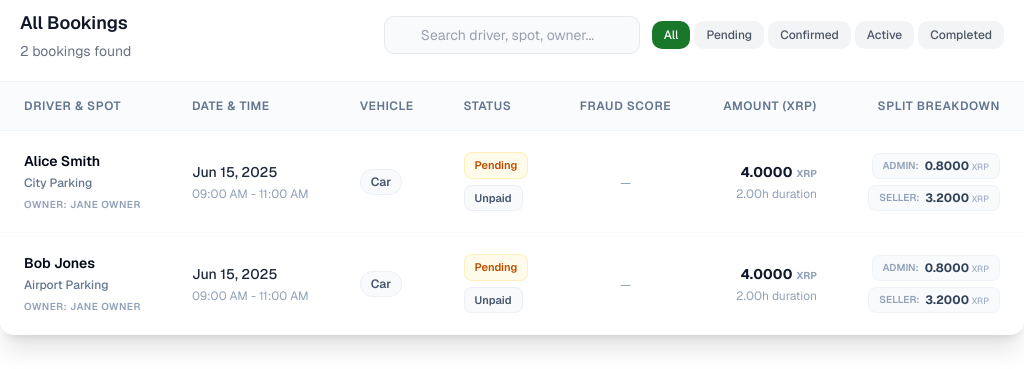
Test: BookingTable Component › Search Functionality › search filters by driver name
The width and height of the screenshot is (1024, 369).
Expected: the text "Alice Smith" is shown, [24,152,100,170]
Type "Alice" into the field with placeholder "Search driver, spot, owner...".
click(512, 35); type("Alice")  # box [384,16,640,54]
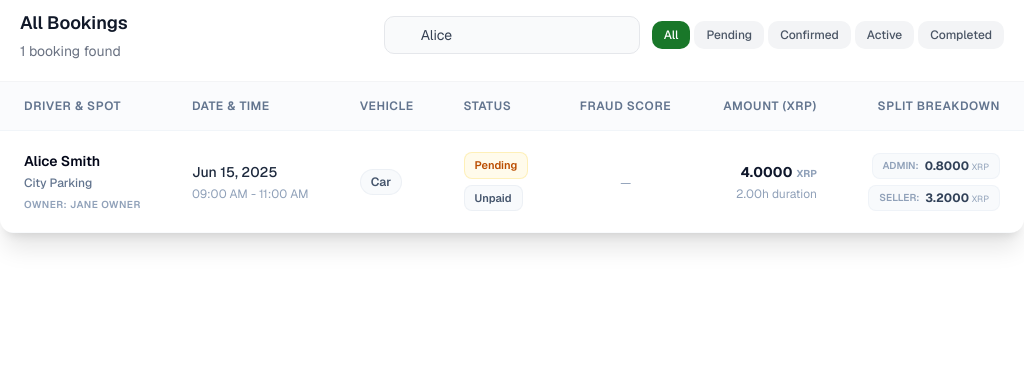
Expected: the text "Alice Smith" is shown, [24,152,100,170]
Result: the text "Bob Jones" is gone
